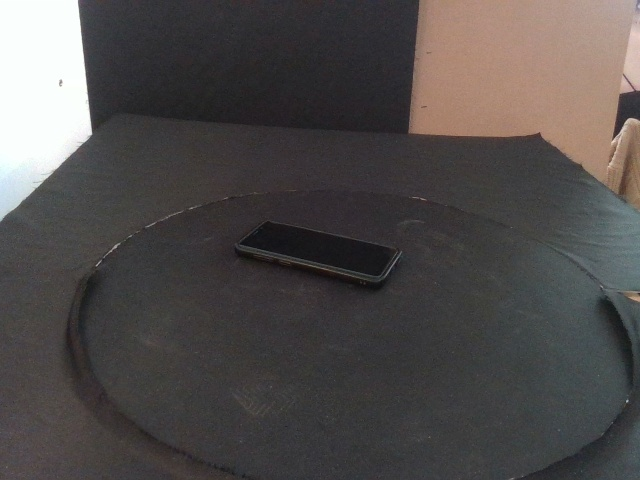phone: (233, 220, 404, 286)
